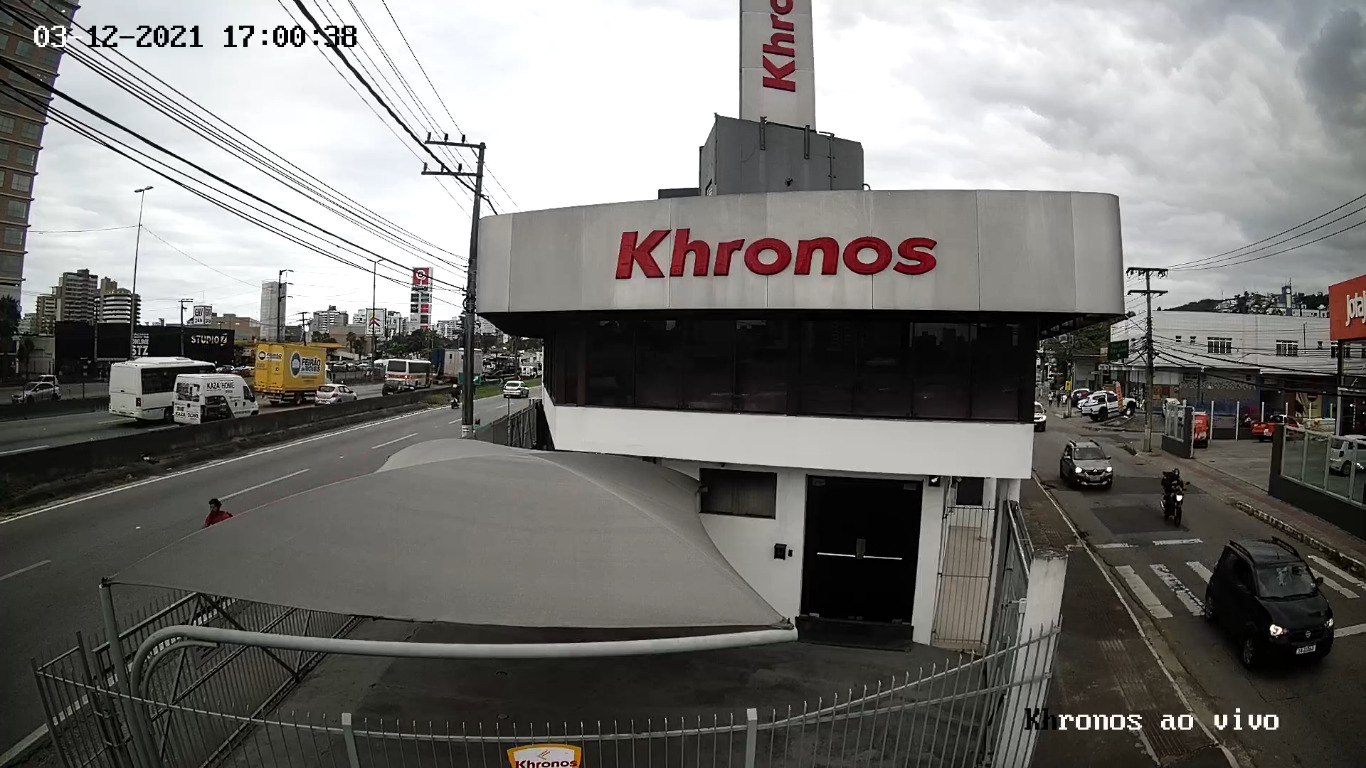car: (1199, 536, 1341, 674), (1059, 436, 1113, 494), (501, 376, 528, 401)
motorcycle: (1156, 465, 1189, 526)
